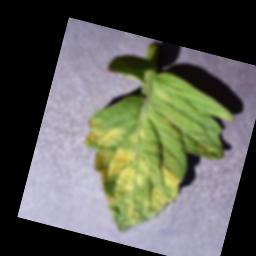Leaf_Mold: (63, 113, 194, 243)
